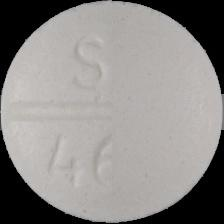68258-6034: (0, 0, 224, 224)
